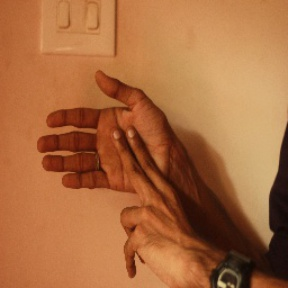N: (28, 69, 198, 243)
